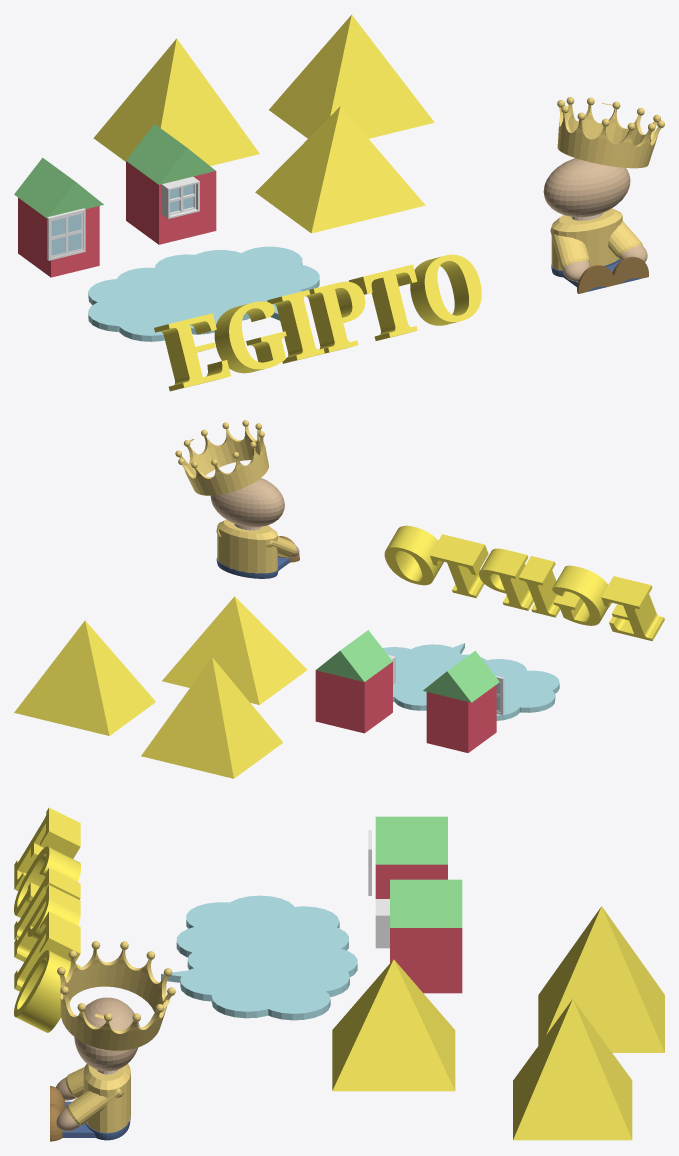
File: Egipto.glb
3 views of the same model, one above another, from view 1: azimuth 30°, elevation 25°; view 2: azimuth 150°, elevation 25°; view 3: azimuth 270°, elevation 25° (orthographic). The views are drawn at different scales.
Parts seen in each view (by area): view 1: Mesh_Mesh_head_geo.001_lambert2SG.001; view 2: Mesh_Mesh_head_geo.001_lambert2SG.001; view 3: Mesh_Mesh_head_geo.001_lambert2SG.001.
Part boxes in pixels (bbox=[...]): Mesh_Mesh_head_geo.001_lambert2SG.001: bbox=[14, 14, 664, 391]; Mesh_Mesh_head_geo.001_lambert2SG.001: bbox=[14, 420, 664, 778]; Mesh_Mesh_head_geo.001_lambert2SG.001: bbox=[14, 807, 664, 1141].
Bounding box in the file's own units: 0.1813 × 0.0554 × 0.18.
